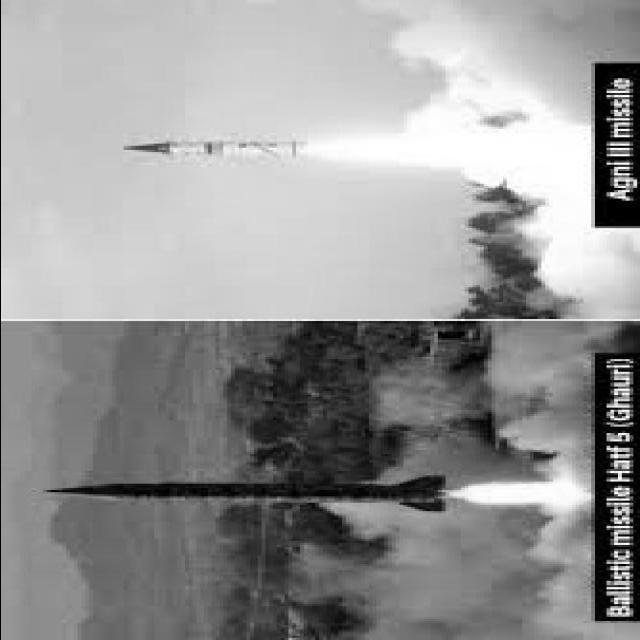Missile: (21, 468, 448, 515), (101, 129, 307, 161)
